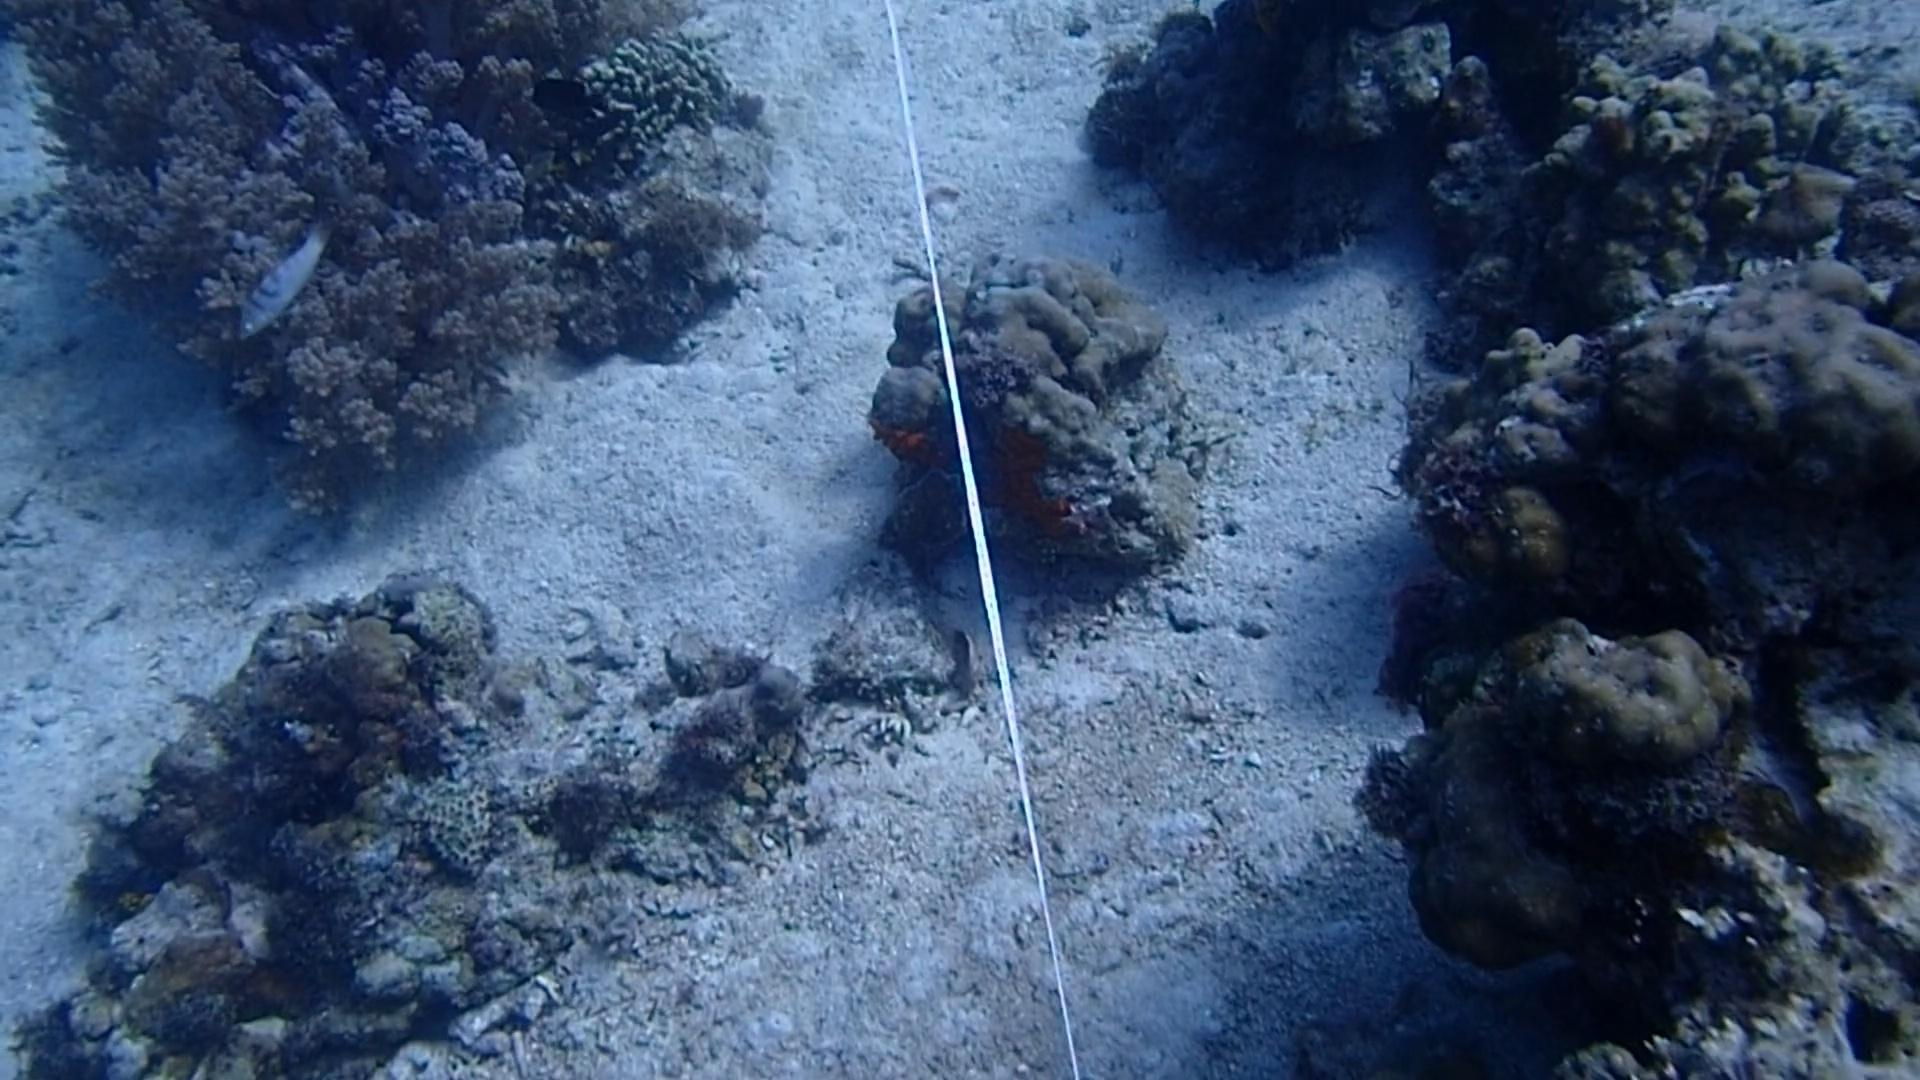Dark Fish: (527, 63, 615, 138)
Light Fish w Back Stripes: (223, 218, 343, 347)
